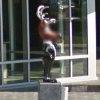Statue: (23, 1, 64, 74)
